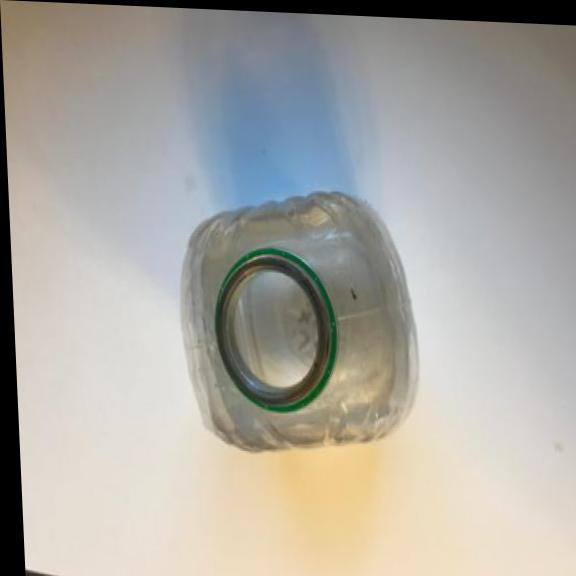Plastik: (176, 182, 425, 464)
